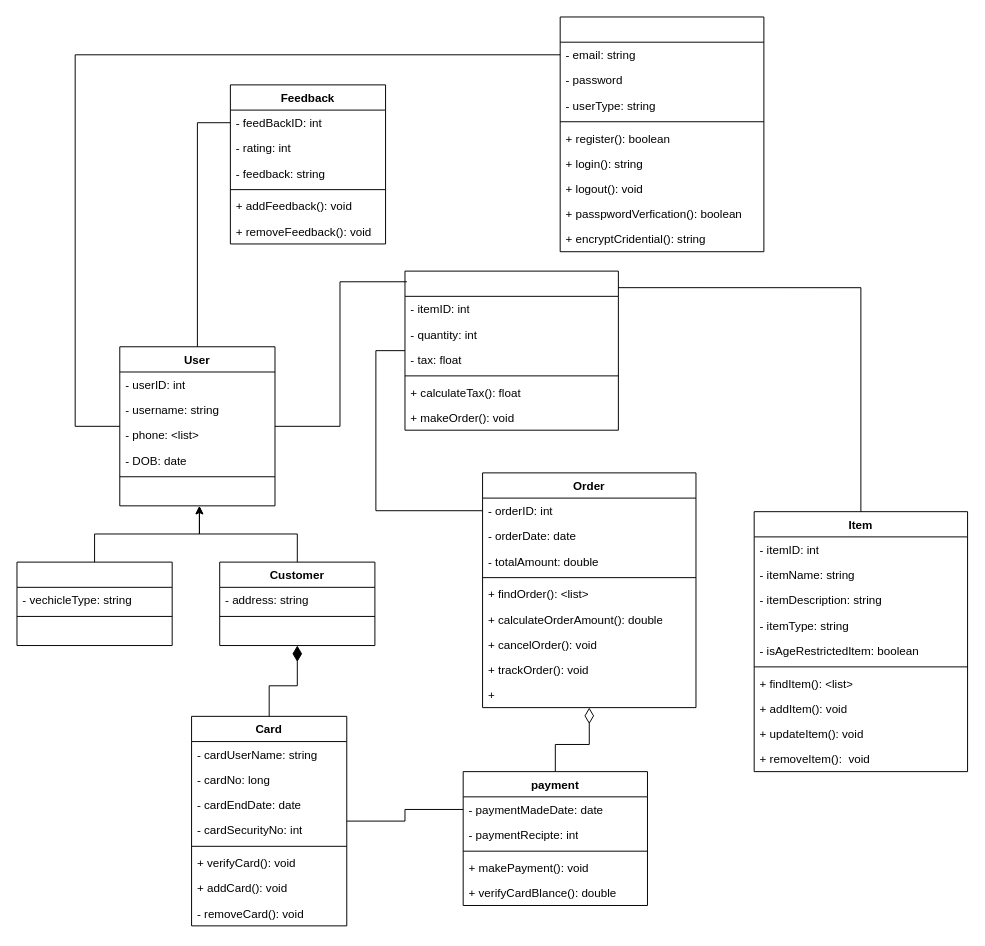
The diagram is 985 pixels wide and 946 high, and some of its shapes have lost their labels. The shapes that lost their labels are listed below. From the top down, each one's box as (x1, y1, x2, y2) in pixels, then its label:
(559, 16, 764, 252): Authentication
(404, 270, 618, 430): BucketItem
(16, 561, 172, 646): Volunteer
